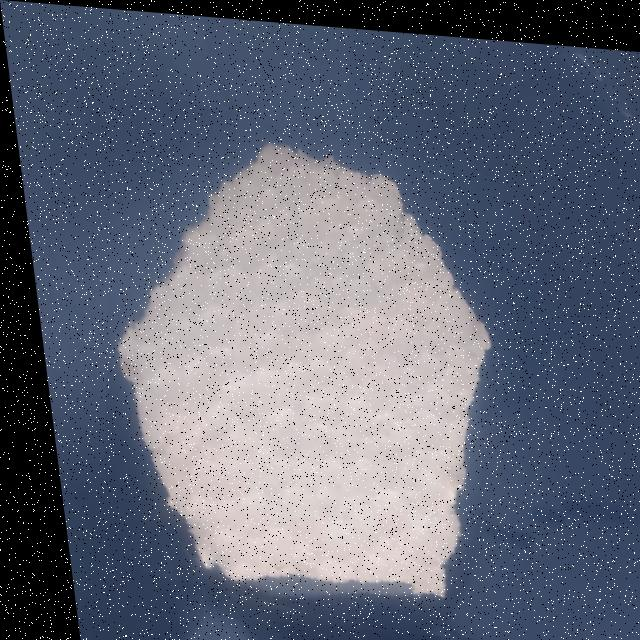litter: (58, 92, 565, 638)
